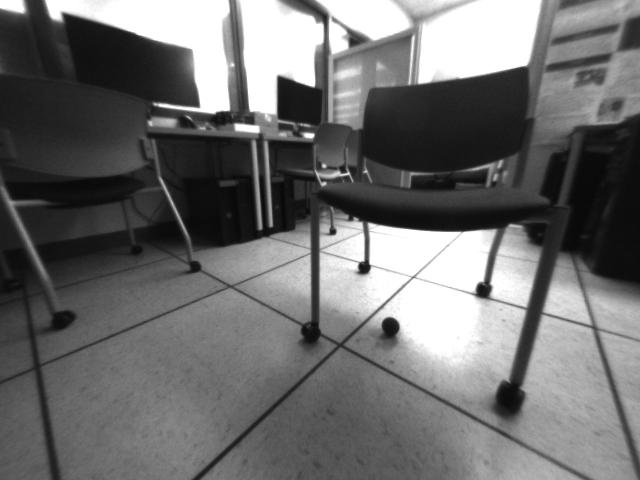dogtoy: (375, 310, 407, 344)
